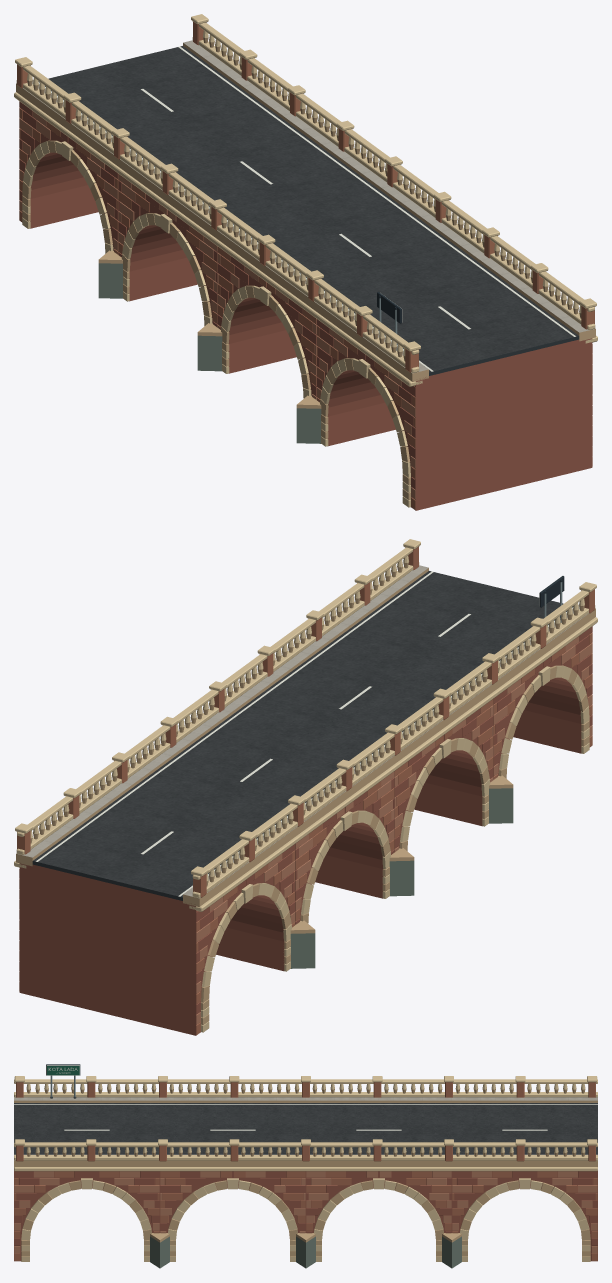
3 views of the same model, one above another, from view 1: azimuth 30°, elevation 25°; view 2: azimuth 150°, elevation 25°; view 3: azimuth 270°, elevation 25° (orthographic). The views are drawn at different scales.
Visible parts, largest first — view 1: Bituminous surface, Vault barrels, Bonded spandrel stones, Promenade, Dressed arch rings, Turned stone balusters, Parapet coping, Parapet sill, Pilasters, Continuous string courses, Cutwaters, Pillar caps (+3 smaller); view 2: Bituminous surface, Vault barrels, Bonded spandrel stones, Promenade, Dressed arch rings, Turned stone balusters, Parapet coping, Parapet sill, Pilasters, Continuous string courses, Cutwaters, Pillar caps (+3 smaller); view 3: Bituminous surface, Bonded spandrel stones, Promenade, Dressed arch rings, Parapet sill, Parapet coping, Vault barrels, Turned stone balusters, Continuous string courses, Pilasters, Cutwaters, Pillar caps (+5 smaller).
Boxes of the visible parts, bbox=[...] form: Bituminous surface: bbox=[38, 46, 579, 375]; Vault barrels: bbox=[25, 130, 592, 510]; Bonded spandrel stones: bbox=[19, 101, 592, 509]; Promenade: bbox=[16, 40, 595, 381]; Dressed arch rings: bbox=[22, 140, 410, 477]; Turned stone balusters: bbox=[27, 30, 581, 361]; Parapet coping: bbox=[23, 21, 594, 354]; Parapet sill: bbox=[16, 37, 595, 372]; Pilasters: bbox=[17, 21, 594, 372]; Continuous string courses: bbox=[14, 92, 597, 386]; Cutwaters: bbox=[98, 263, 321, 443]; Pillar caps: bbox=[15, 14, 596, 351]; Bituminous surface: bbox=[32, 571, 573, 900]; Vault barrels: bbox=[19, 655, 586, 1035]; Bonded spandrel stones: bbox=[19, 626, 592, 1034]; Promenade: bbox=[16, 565, 595, 906]; Dressed arch rings: bbox=[201, 665, 589, 1002]; Turned stone balusters: bbox=[30, 555, 584, 886]; Parapet coping: bbox=[17, 546, 588, 879]; Parapet sill: bbox=[16, 562, 595, 897]; Pilasters: bbox=[17, 546, 594, 897]; Continuous string courses: bbox=[14, 617, 597, 911]; Cutwaters: bbox=[290, 788, 513, 968]; Pillar caps: bbox=[15, 539, 596, 876]; Bituminous surface: bbox=[14, 1103, 597, 1154]; Bonded spandrel stones: bbox=[14, 1171, 597, 1260]; Promenade: bbox=[14, 1097, 597, 1166]; Dressed arch rings: bbox=[21, 1178, 590, 1240]; Parapet sill: bbox=[14, 1092, 597, 1160]; Parapet coping: bbox=[14, 1079, 597, 1147]; Vault barrels: bbox=[14, 1171, 597, 1261]; Turned stone balusters: bbox=[26, 1084, 585, 1156]; Continuous string courses: bbox=[14, 1167, 597, 1171]; Pilasters: bbox=[16, 1082, 595, 1161]; Cutwaters: bbox=[150, 1236, 461, 1268]; Pillar caps: bbox=[14, 1076, 597, 1145].
Size of the model in its own units: 10.1 by 8.21 by 32.
Materials: 15 (2 with a texture image).
